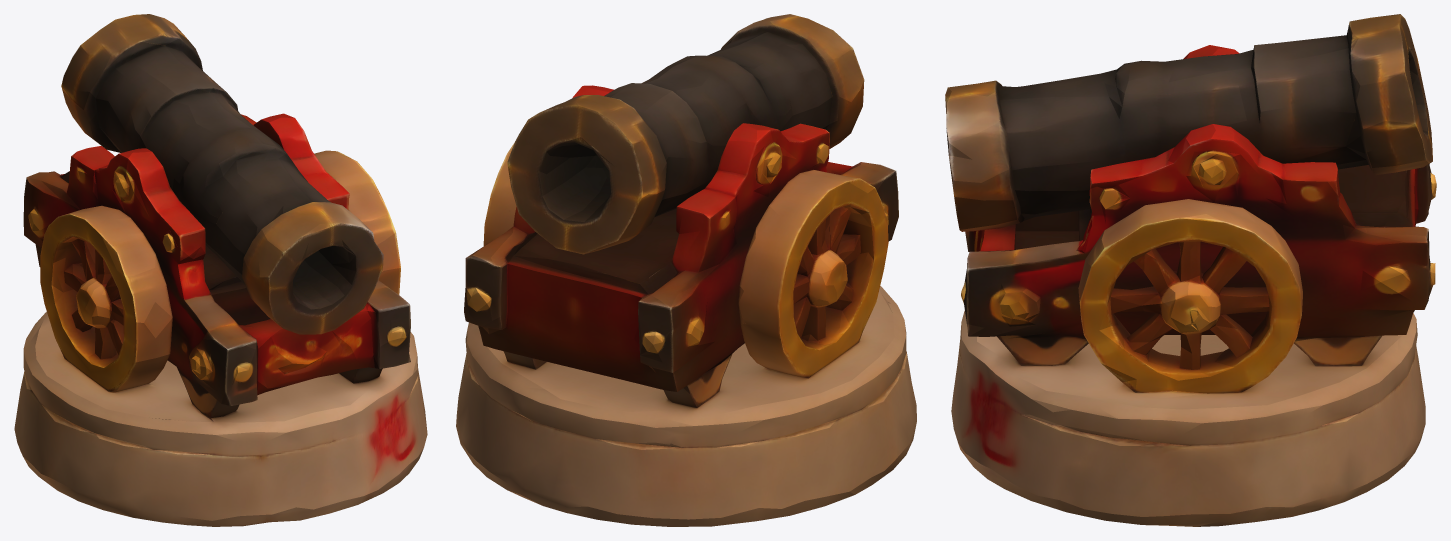
The model's file is cannon_red.glb.
3 renders of one model, left to right at view 1: azimuth 30°, elevation 25°; view 2: azimuth 150°, elevation 25°; view 3: azimuth 270°, elevation 25°, orthographic. The views are drawn at different scales.
Parts seen in each view (by area): view 1: Mesh; view 2: Mesh; view 3: Mesh.
Part boxes in pixels (box(x1,y1,x2,y2)): Mesh: box(14, 14, 427, 526); Mesh: box(456, 14, 916, 526); Mesh: box(945, 14, 1436, 526).
Bounding box in the file's own units: 1.82 × 1.74 × 1.89.
1 material, 1 textured.
